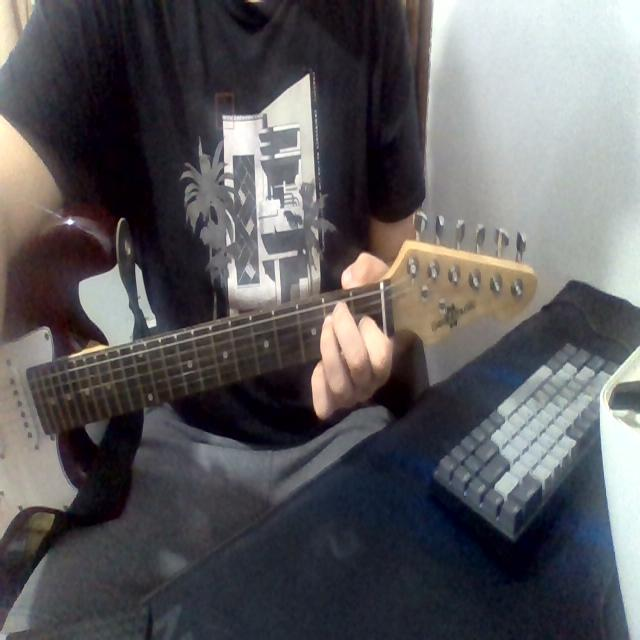E: (317, 292, 395, 381)
